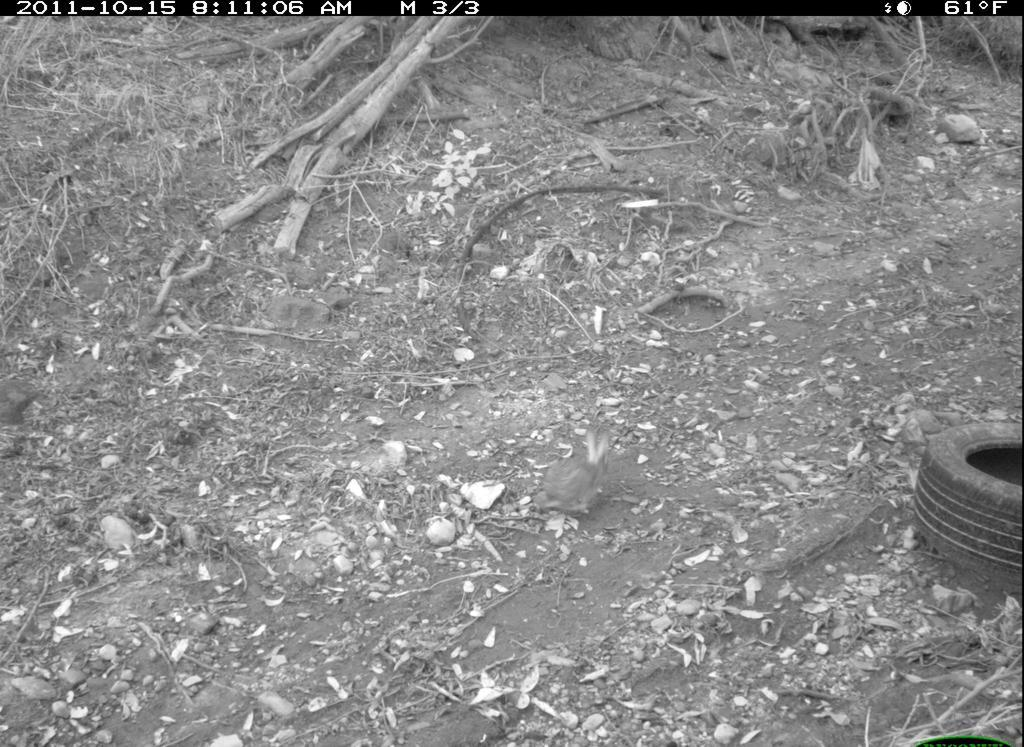rabbit: (530, 420, 619, 528)
